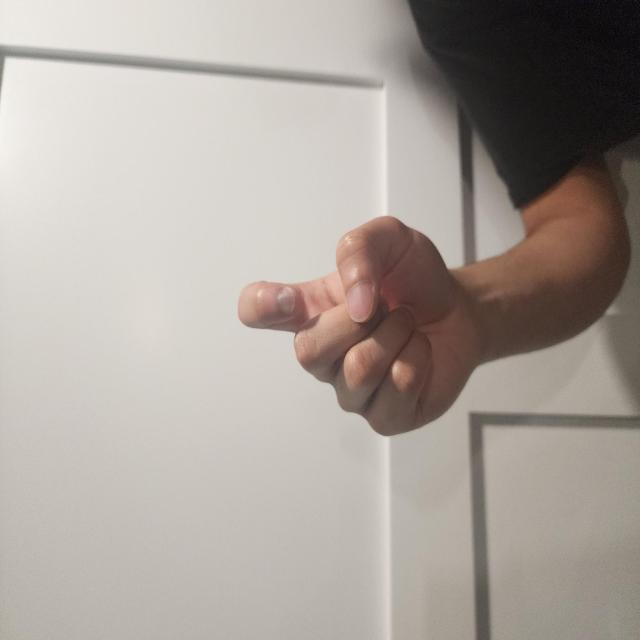X: (144, 305, 323, 640)
